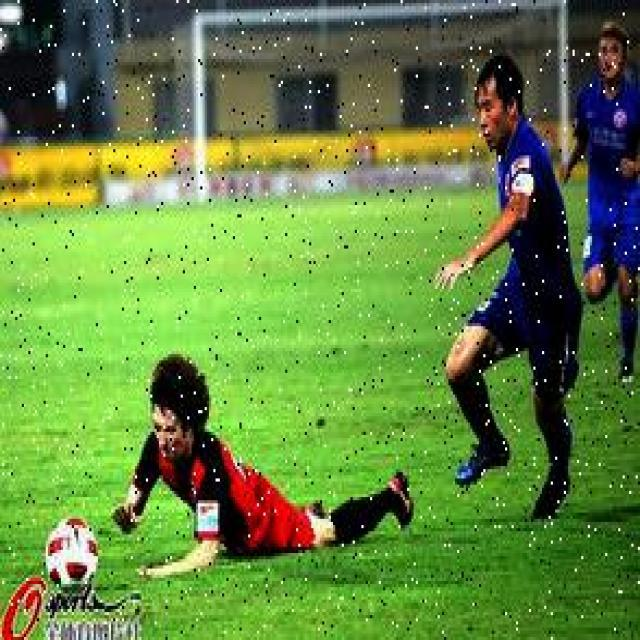fall: (116, 367, 416, 562)
